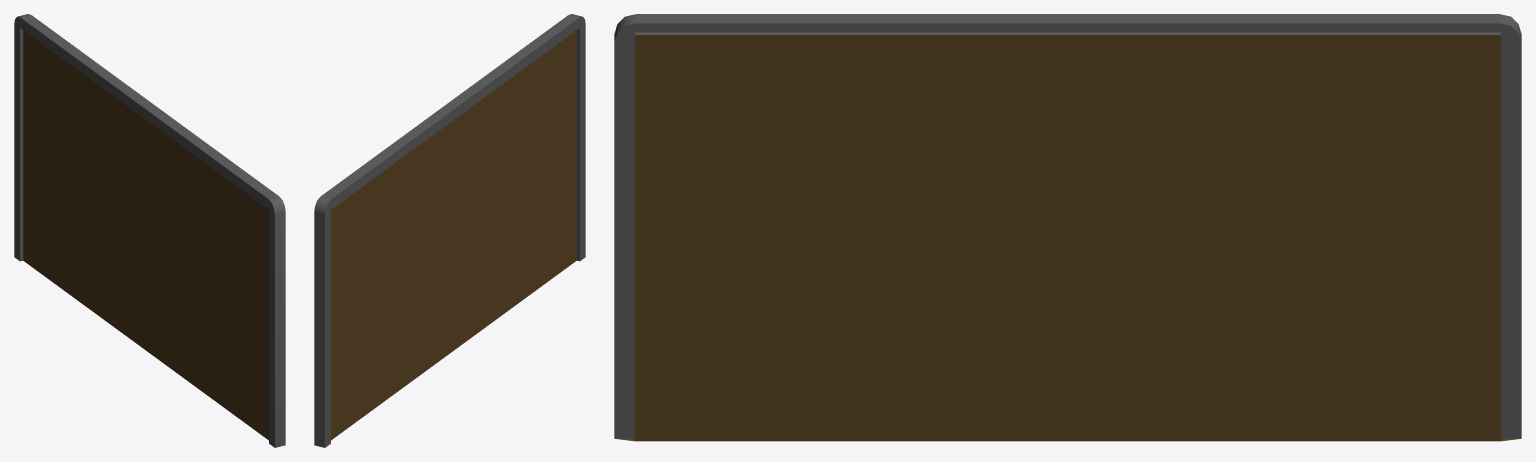
Rendered from BulletinBoards.fbx.
3 views of the same model, side by side, from view 1: azimuth 30°, elevation 25°; view 2: azimuth 150°, elevation 25°; view 3: azimuth 270°, elevation 25° (orthographic). The views are drawn at different scales.
Visible parts, largest first — view 1: BulletinBoards; view 2: BulletinBoards; view 3: BulletinBoards.
Part boxes in pixels (left/top/right/bottom): BulletinBoards: left=14, top=14, right=285, bottom=447; BulletinBoards: left=314, top=14, right=585, bottom=447; BulletinBoards: left=614, top=14, right=1521, bottom=441.
Bounding box in the file's own units: 3.84 × 82.29 × 159.
